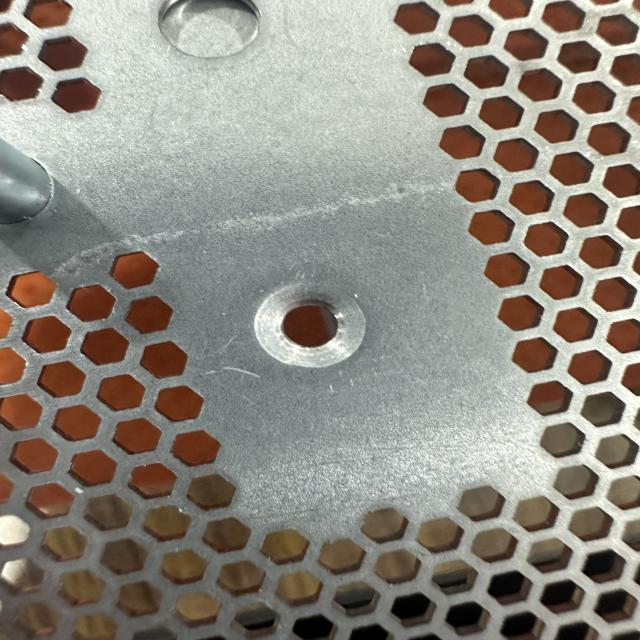Missing screw: (238, 274, 386, 378)
